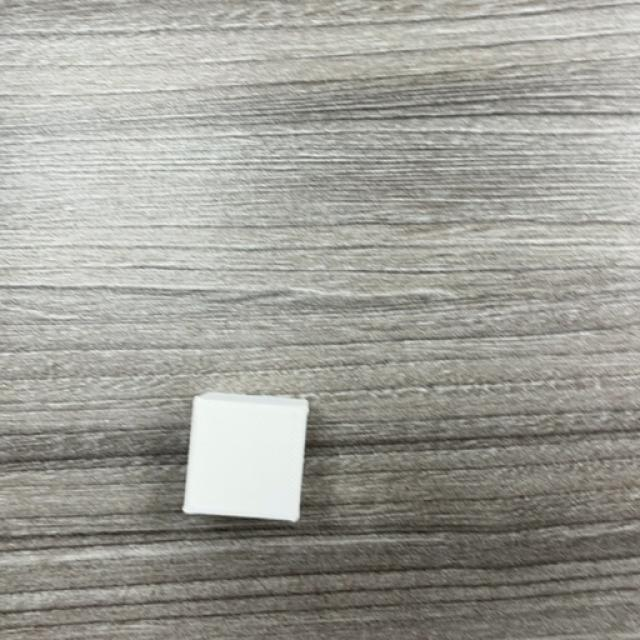Blanco: (181, 392, 310, 526)
